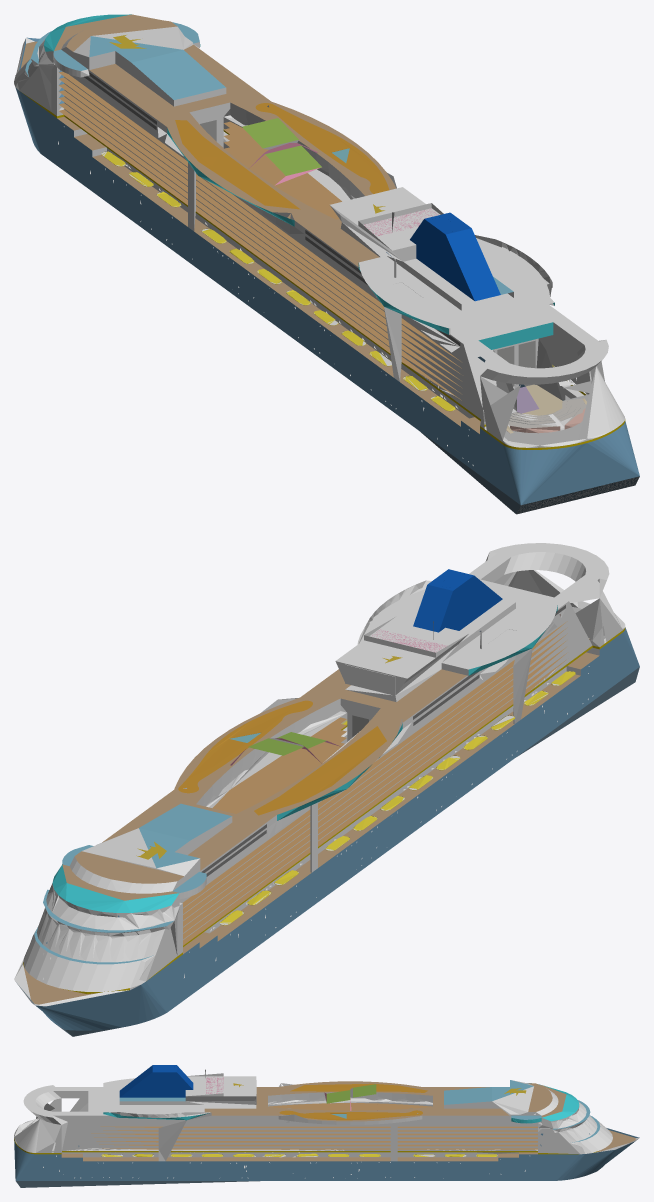
Rendered from cruise_ship_far.glb.
3 views of the same model, one above another, from view 1: azimuth 30°, elevation 25°; view 2: azimuth 150°, elevation 25°; view 3: azimuth 270°, elevation 25° (orthographic). The views are drawn at different scales.
Visible parts, largest first — view 1: hull0; view 2: hull0; view 3: hull0.
Part boxes in pixels (x1,y1,x2,y2): hull0: [14, 14, 639, 514]; hull0: [14, 543, 639, 1036]; hull0: [14, 1065, 639, 1187].
Size of the model in its own units: 64.96 by 77.14 by 425.
